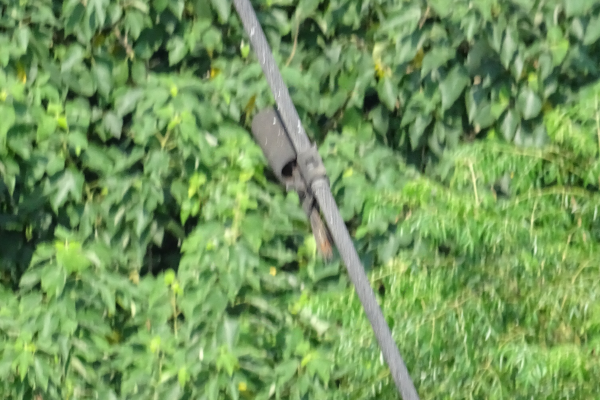damper_defect: (247, 98, 345, 270)
